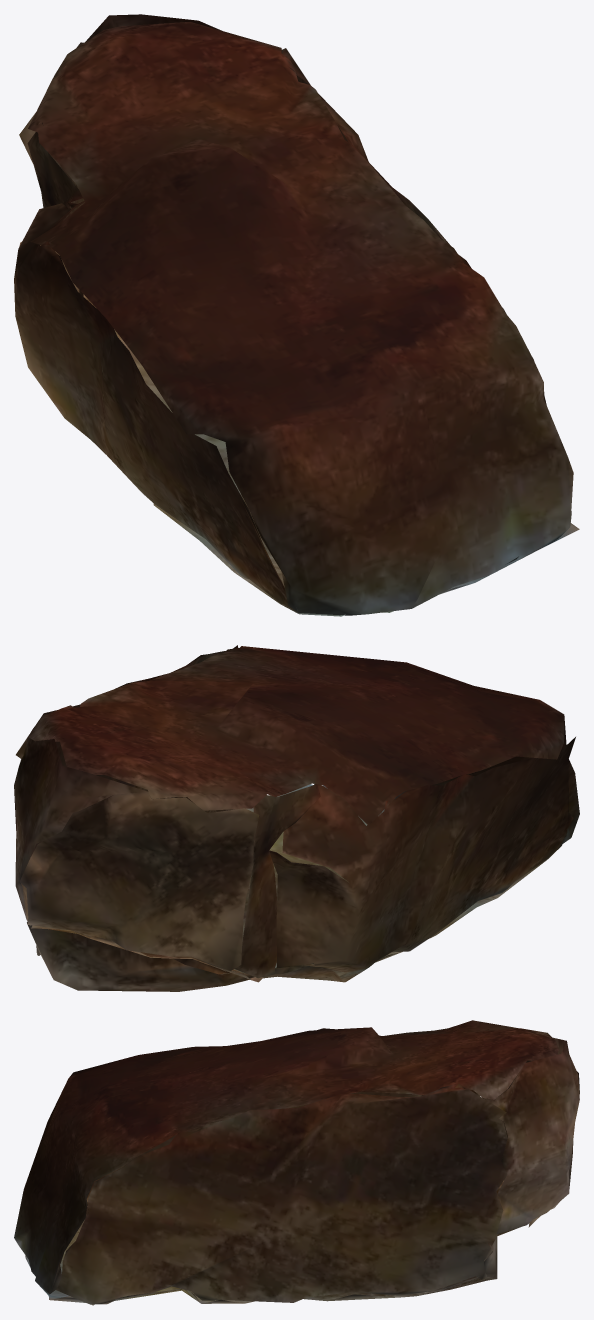
File: boulder_b.glb
The picture shows the model from 3 angles, top to bottom: view 1: azimuth 30°, elevation 25°; view 2: azimuth 150°, elevation 25°; view 3: azimuth 270°, elevation 25°; orthographic projection. The views are drawn at different scales.
Parts seen in each view (by area): view 1: rock_07; view 2: rock_07; view 3: rock_07.
Part boxes in pixels (x1,y1,x2,y2): rock_07: (14, 14, 579, 616); rock_07: (14, 645, 579, 991); rock_07: (14, 1020, 579, 1305).
Size of the model in its own units: 0.1714 by 0.1428 by 0.32.
1 material, 1 textured.
